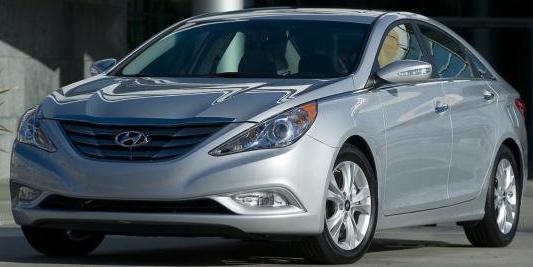Cars: (11, 10, 529, 263)
